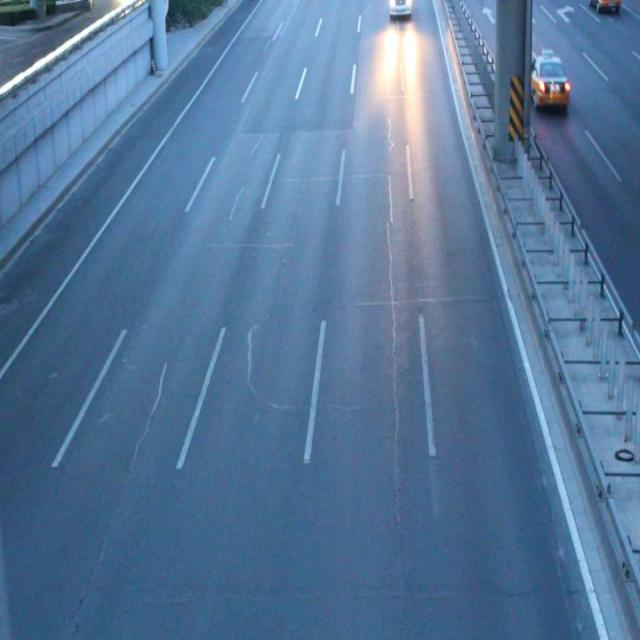car: (524, 53, 568, 108)
truck: (388, 1, 412, 17)
